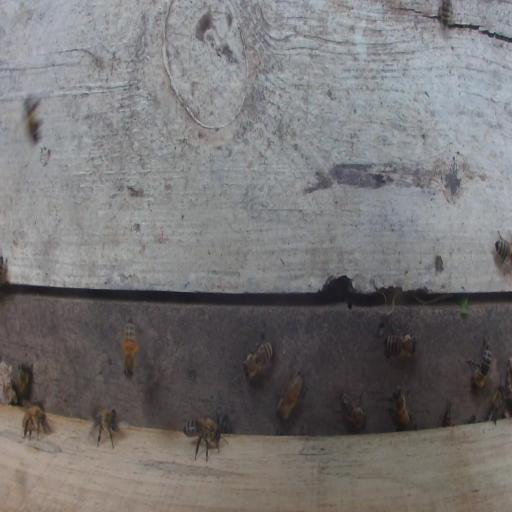nonpollenbee: (180, 412, 224, 456), (275, 370, 305, 426), (87, 405, 121, 449), (18, 398, 51, 442), (241, 338, 273, 381), (468, 336, 492, 393), (337, 388, 368, 431), (390, 384, 414, 434), (385, 330, 418, 363), (15, 357, 34, 405), (486, 384, 506, 426), (495, 227, 511, 277), (436, 1, 452, 28), (442, 409, 451, 428)
pollenbee: (121, 316, 140, 381)
